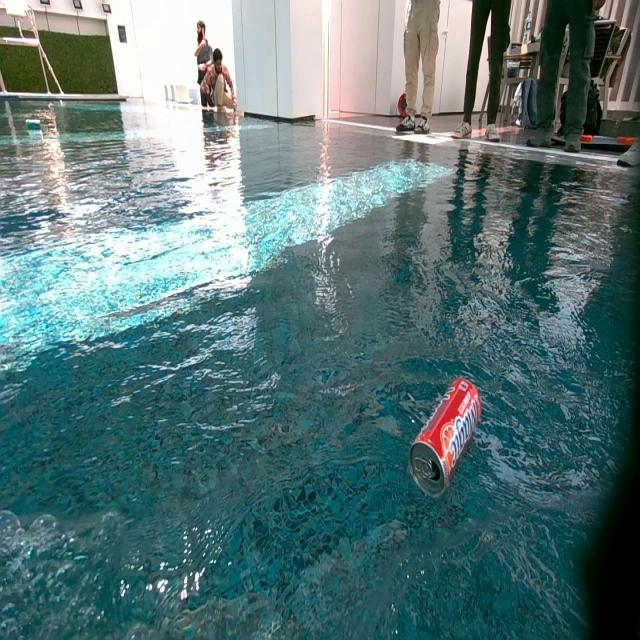Cans: (408, 377, 482, 500), (26, 118, 41, 130), (48, 104, 56, 108), (59, 101, 65, 105)
